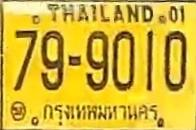0: (164, 30, 186, 91), (112, 30, 134, 90)
1: (146, 31, 154, 90)
7: (13, 30, 37, 90)
9: (40, 29, 64, 90), (85, 30, 108, 90)
BKK: (40, 98, 161, 127)
